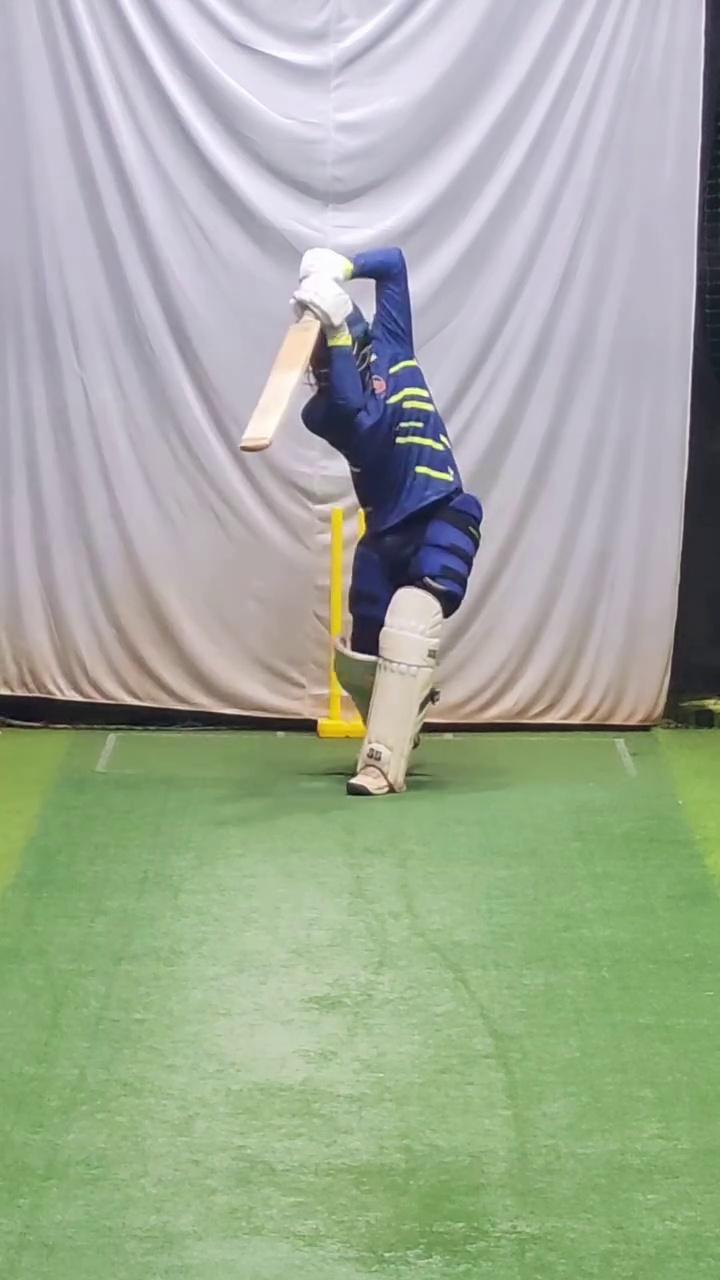bat: (239, 309, 321, 459)
